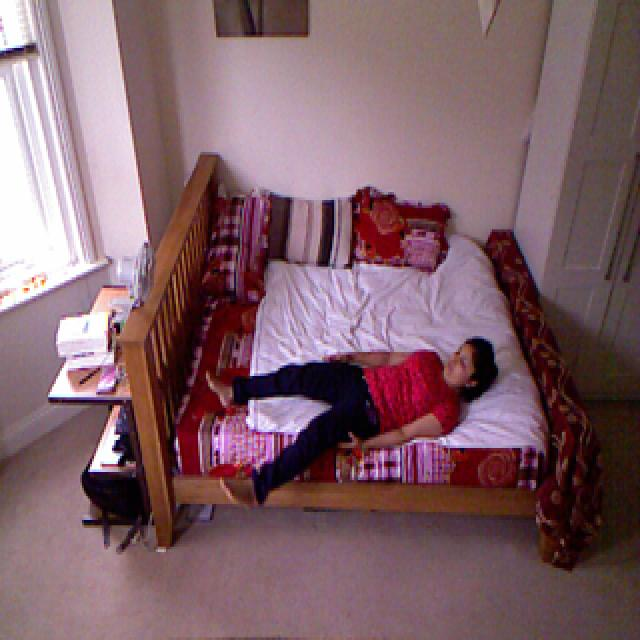lying: (201, 336, 503, 506)
